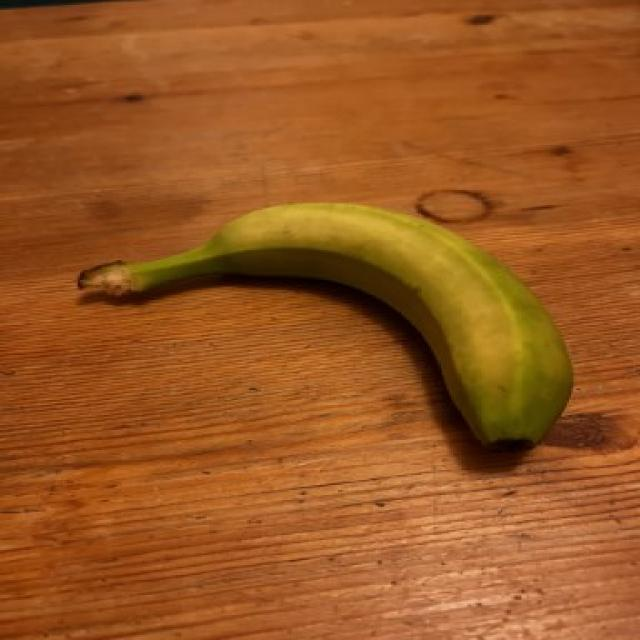Unripe: (64, 173, 602, 498)
